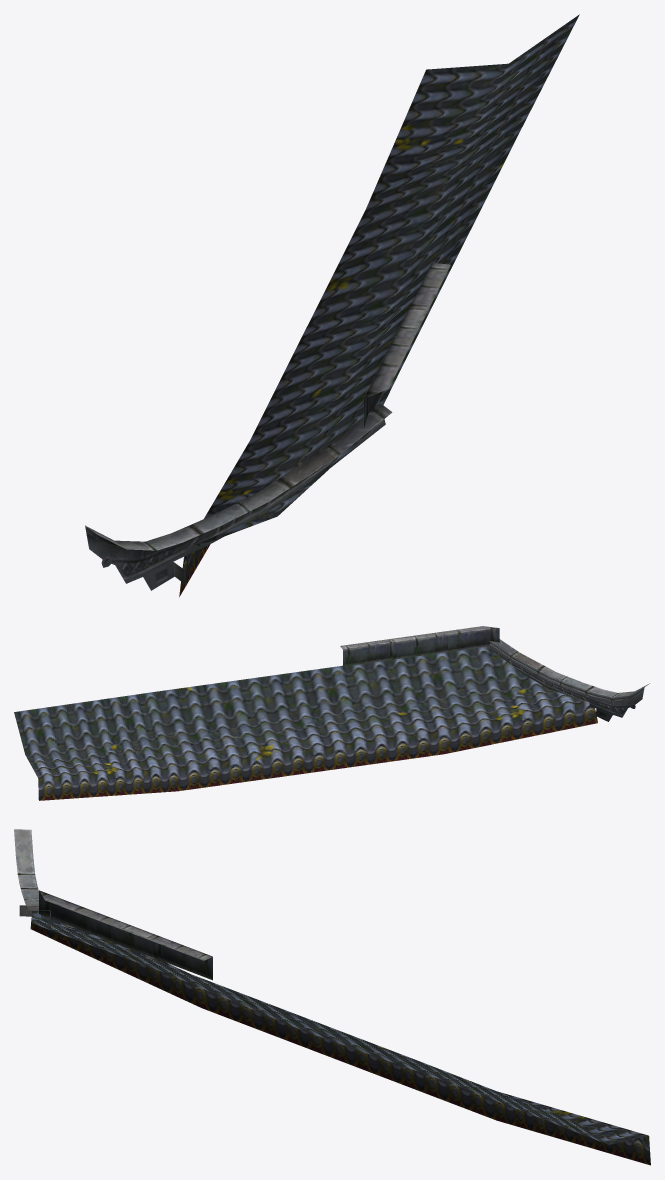
The model's file is S2_Build_XSC059_H7.FBX.
3 renders of one model, top to bottom at view 1: azimuth 30°, elevation 25°; view 2: azimuth 150°, elevation 25°; view 3: azimuth 270°, elevation 25°, orthographic. The views are drawn at different scales.
Visible parts, largest first — view 1: S2_Build_XSC059_H7; view 2: S2_Build_XSC059_H7; view 3: S2_Build_XSC059_H7.
Part boxes in pixels (box(x1,y1,x2,y2)): S2_Build_XSC059_H7: box(85, 14, 579, 597); S2_Build_XSC059_H7: box(14, 626, 649, 800); S2_Build_XSC059_H7: box(14, 829, 650, 1165).
Bounding box in the file's own units: 5430 × 995 × 4812.
